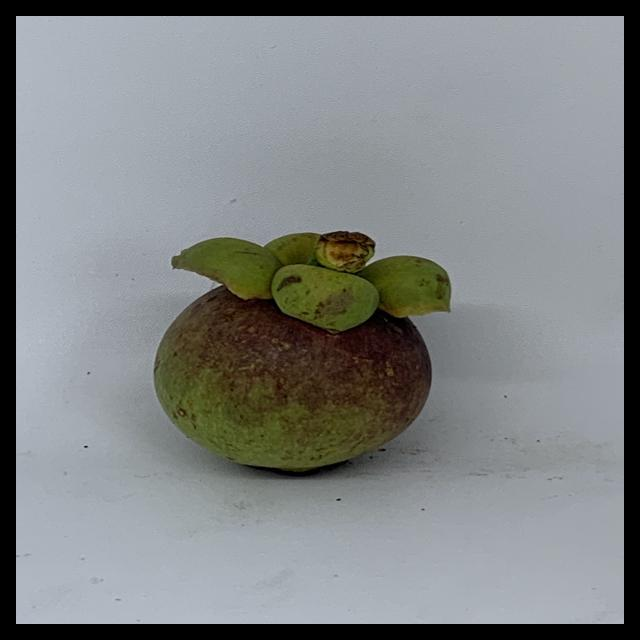mangosteen: (145, 223, 462, 500)
